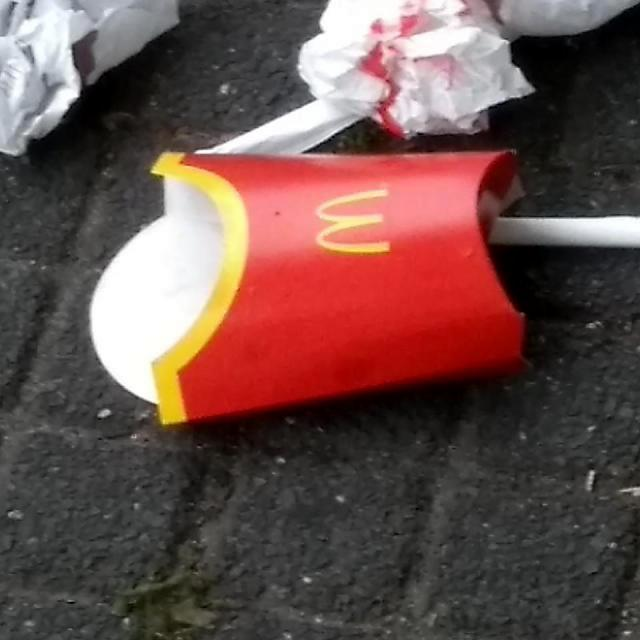Paper: (86, 147, 530, 429), (295, 0, 536, 136)
